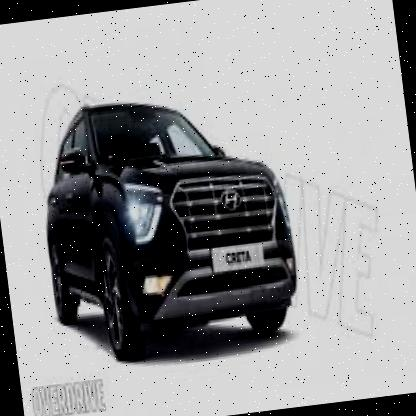car: (17, 75, 312, 378)
